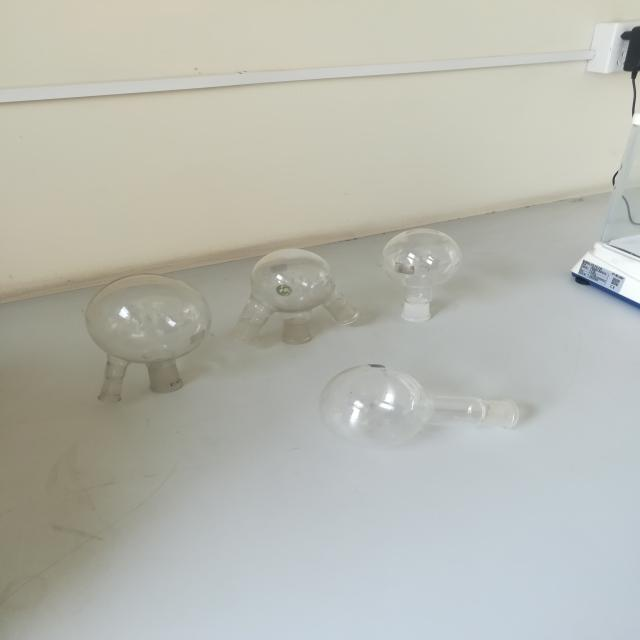Round_Bottom_Flask_Borosilicate_Glass_1_Neck: (308, 334, 549, 475), (372, 202, 480, 336)
Round_Bottom_Flask_Borosilicate_Glass_2_Neck: (78, 260, 222, 417)
Round_Bottom_Flask_Borosilicate_Glass_3_Neck: (222, 238, 364, 364)
